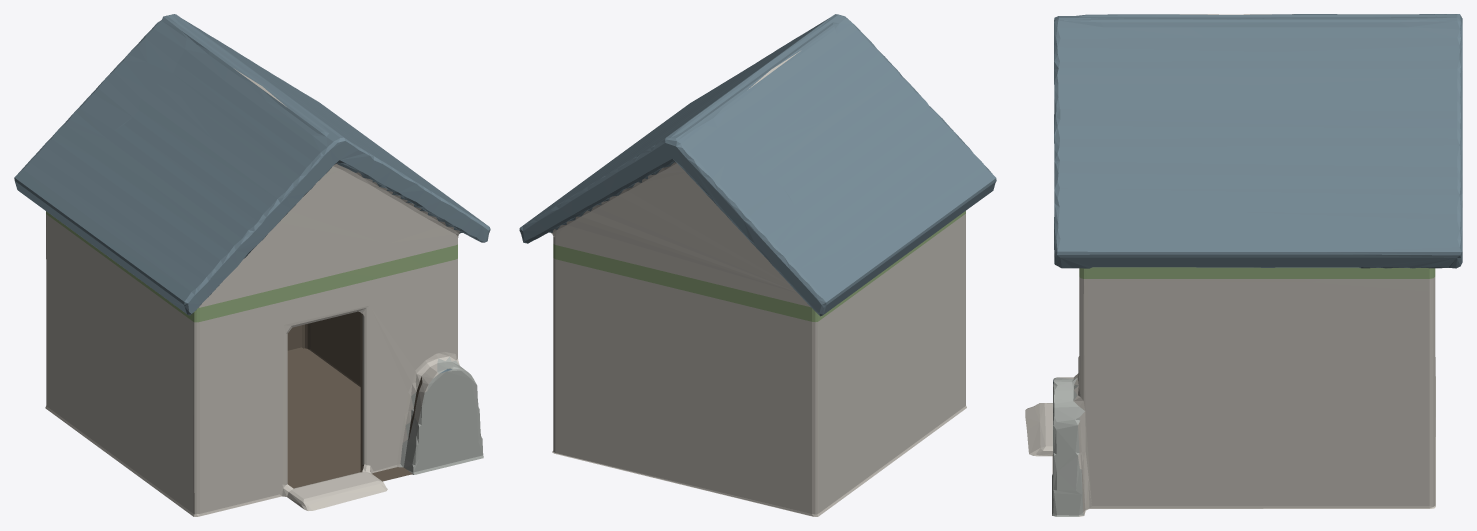
3 renders of one model, left to right at view 1: azimuth 30°, elevation 25°; view 2: azimuth 150°, elevation 25°; view 3: azimuth 270°, elevation 25°, orthographic. The views are drawn at different scales.
Parts seen in each view (by area): view 1: geometry_0; view 2: geometry_0; view 3: geometry_0.
Boxes of the visible parts, box(x1,y1,x2,y2) form: geometry_0: box(14, 14, 490, 516); geometry_0: box(519, 14, 996, 516); geometry_0: box(1025, 14, 1462, 516).
Size of the model in its own units: 0.8543 by 0.9404 by 0.8932.
